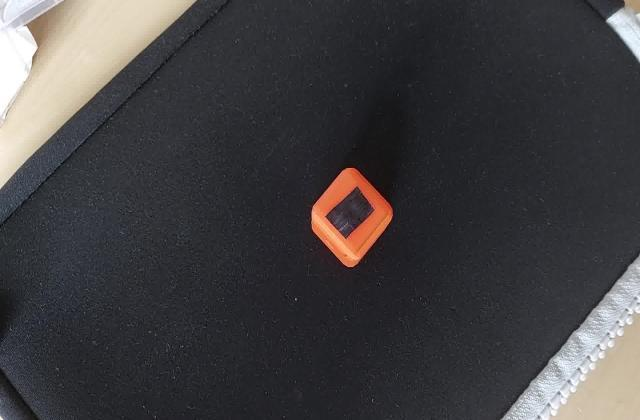black: (318, 188, 380, 240)
sticker: (310, 165, 396, 272)
